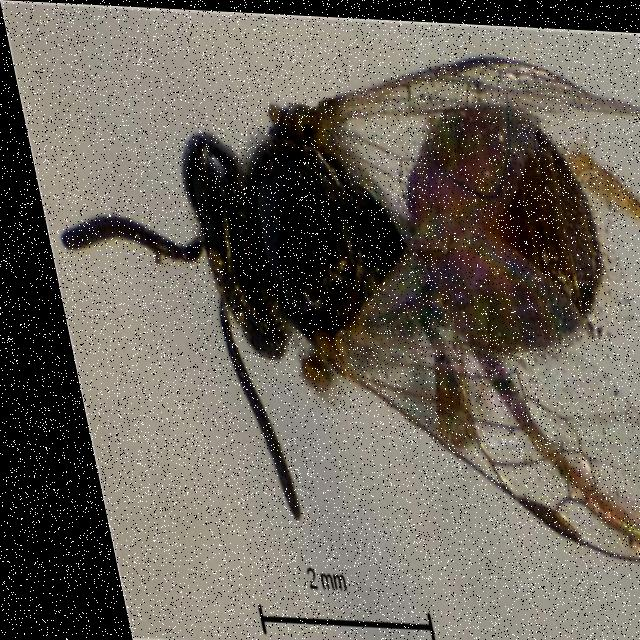Allodapula: (23, 14, 640, 595)
